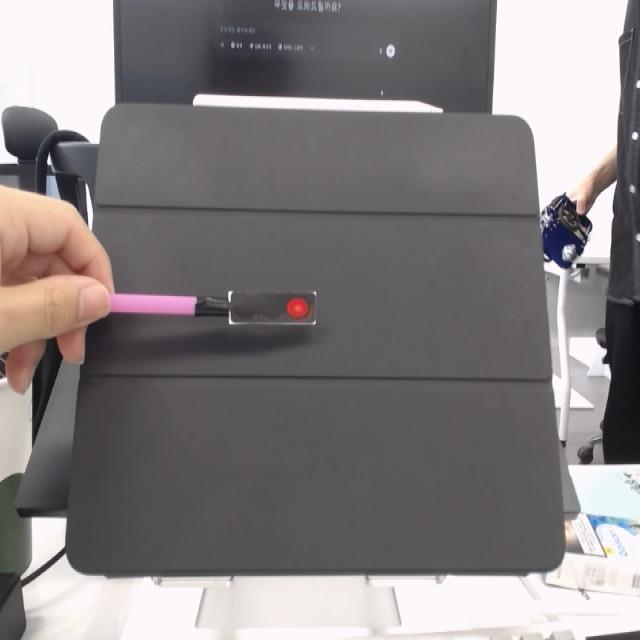traffic light: (216, 289, 323, 332)
